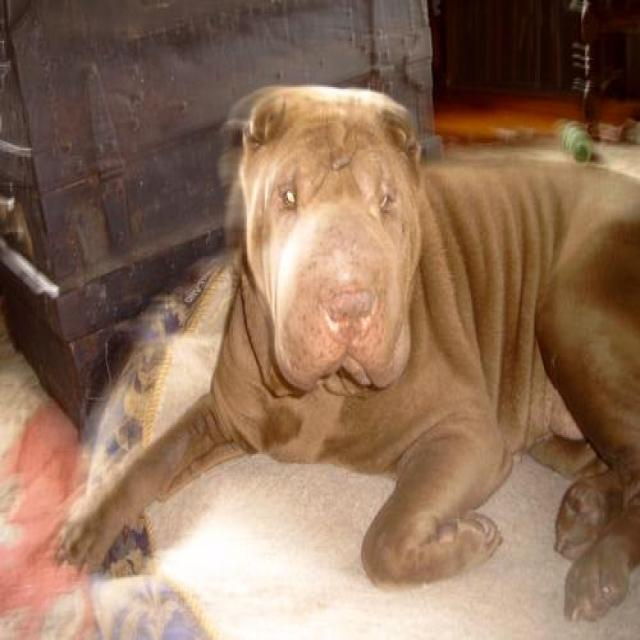Dogs: (54, 82, 638, 623)
